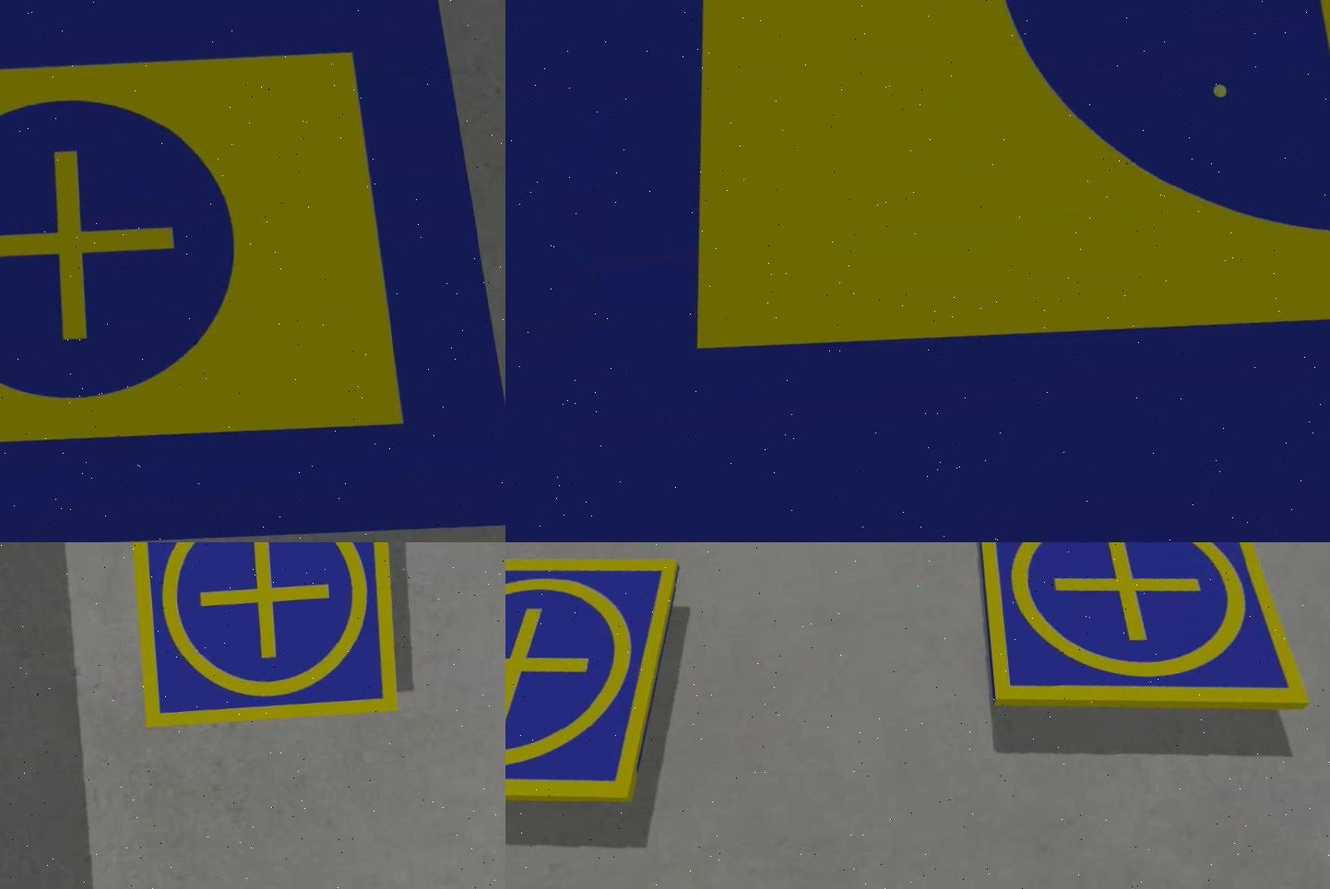large_base: (505, 1, 1328, 542), (0, 1, 505, 542)
small_base: (967, 542, 1308, 735), (119, 542, 411, 738), (505, 542, 699, 827)
